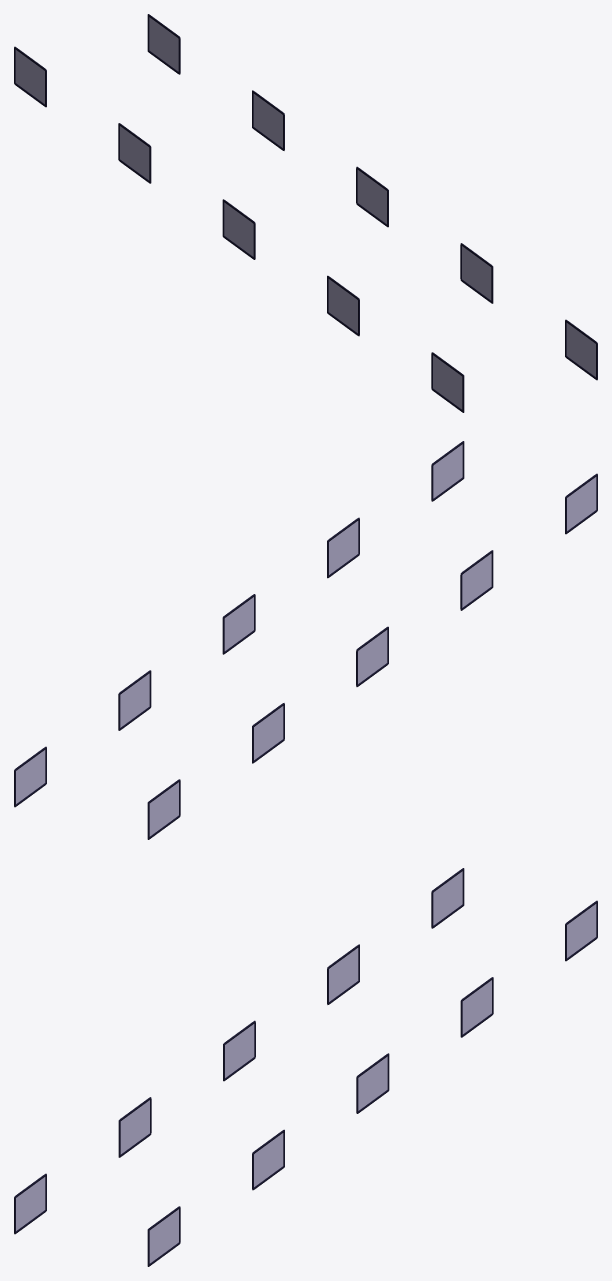
Rendered from VentanasTren.fbx.
3 views of the same model, one above another, from view 1: azimuth 30°, elevation 25°; view 2: azimuth 150°, elevation 25°; view 3: azimuth 330°, elevation 25° (orthographic).
Visible parts, largest first — view 1: Cube.007, Cube.005; view 2: Cube.005, Cube.007; view 3: Cube.005, Cube.007.
Boxes of the visible parts, x1,y1,x2,y2 form: Cube.007: (14, 46, 464, 412); Cube.005: (147, 14, 597, 380); Cube.005: (14, 441, 464, 807); Cube.007: (147, 473, 597, 839); Cube.005: (147, 900, 597, 1266); Cube.007: (14, 868, 464, 1234).
Bounding box in the file's own units: 635 × 172 × 3662.
